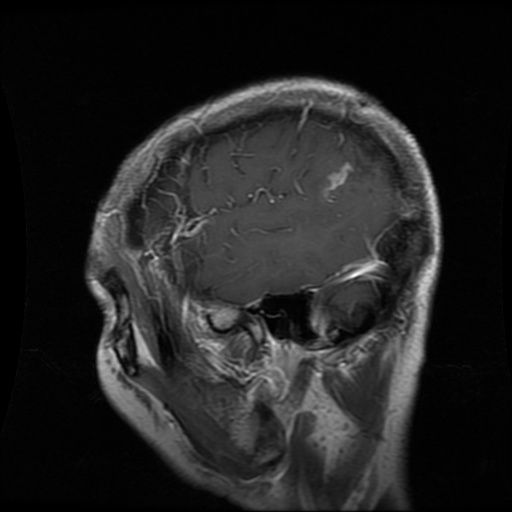glioma: (319, 159, 353, 201)
